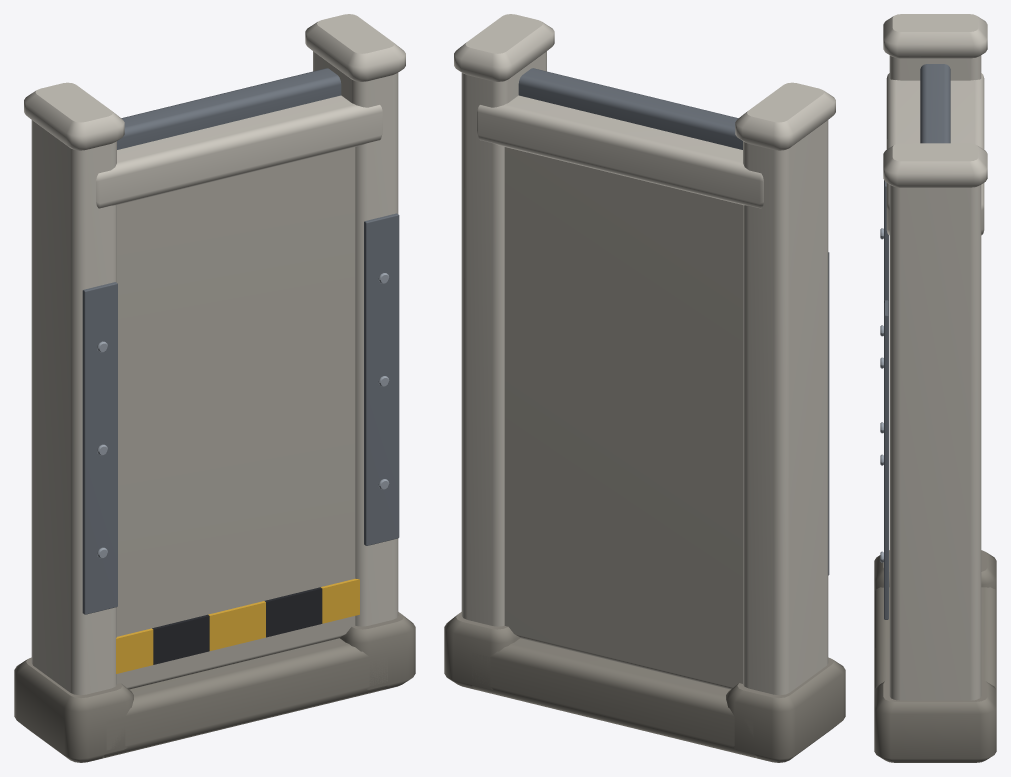
Rendered from barriere_beton_arme.glb.
3 renders of one model, left to right at view 1: azimuth 30°, elevation 25°; view 2: azimuth 150°, elevation 25°; view 3: azimuth 270°, elevation 25°, orthographic. The views are drawn at different scales.
Parts seen in each view (by area): view 1: barriere_beton_cl.012, poteau_g_beton_cl_clair.012, poteau_d_beton_cl_clair.012, barriere_beton_cl_sombre.012, barriere_beton_cl_clair.012, poteau_g_acier_cl.006, poteau_d_acier_cl.006, poteau_g_beton_cl_sombre.012, barriere_acier_cl.006, barriere_jaune_cl.006, barriere_noir_cl.008, poteau_d_beton_cl_sombre.012; view 2: barriere_beton_cl.012, poteau_g_beton_cl_clair.012, poteau_d_beton_cl_clair.012, barriere_beton_cl_sombre.012, barriere_beton_cl_clair.012, poteau_g_beton_cl_sombre.012, barriere_acier_cl.006, poteau_d_beton_cl_sombre.012; view 3: poteau_d_beton_cl_clair.012, poteau_d_beton_cl_sombre.012, poteau_g_beton_cl_clair.012, barriere_beton_cl_clair.012, barriere_beton_cl_sombre.012, barriere_acier_cl.006, poteau_d_acier_cl.006, poteau_g_beton_cl_sombre.012, poteau_g_acier_cl.006.
Part boxes in pixels (x1,y1,x2,y2): barriere_beton_cl.012: (117,147,355,689); poteau_g_beton_cl_clair.012: (24,82,124,695); poteau_d_beton_cl_clair.012: (305,14,405,626); barriere_beton_cl_sombre.012: (102,638,387,758); barriere_beton_cl_clair.012: (96,95,382,208); poteau_g_acier_cl.006: (82,282,117,614); poteau_d_acier_cl.006: (364,213,399,545); poteau_g_beton_cl_sombre.012: (14,657,133,762); barriere_acier_cl.006: (117,68,341,149); barriere_jaune_cl.006: (116,578,359,673); barriere_noir_cl.008: (152,587,322,664); poteau_d_beton_cl_sombre.012: (340,612,415,689); barriere_beton_cl.012: (504,147,742,689); poteau_g_beton_cl_clair.012: (735,82,835,695); poteau_d_beton_cl_clair.012: (454,14,554,626); barriere_beton_cl_sombre.012: (472,638,757,758); barriere_beton_cl_clair.012: (477,95,763,208); poteau_g_beton_cl_sombre.012: (726,657,845,762); barriere_acier_cl.006: (518,68,742,149); poteau_d_beton_cl_sombre.012: (444,612,519,689); poteau_d_beton_cl_clair.012: (883,143,987,700); poteau_d_beton_cl_sombre.012: (874,679,996,762); poteau_g_beton_cl_clair.012: (883,14,987,80); barriere_beton_cl_clair.012: (886,73,984,235); barriere_beton_cl_sombre.012: (874,587,996,689); barriere_acier_cl.006: (920,64,950,143); poteau_d_acier_cl.006: (884,300,888,619); poteau_g_beton_cl_sombre.012: (874,550,996,590); poteau_g_acier_cl.006: (884,180,888,300).
Bounding box in the file's own units: 0.62 × 1.08 × 0.2.
